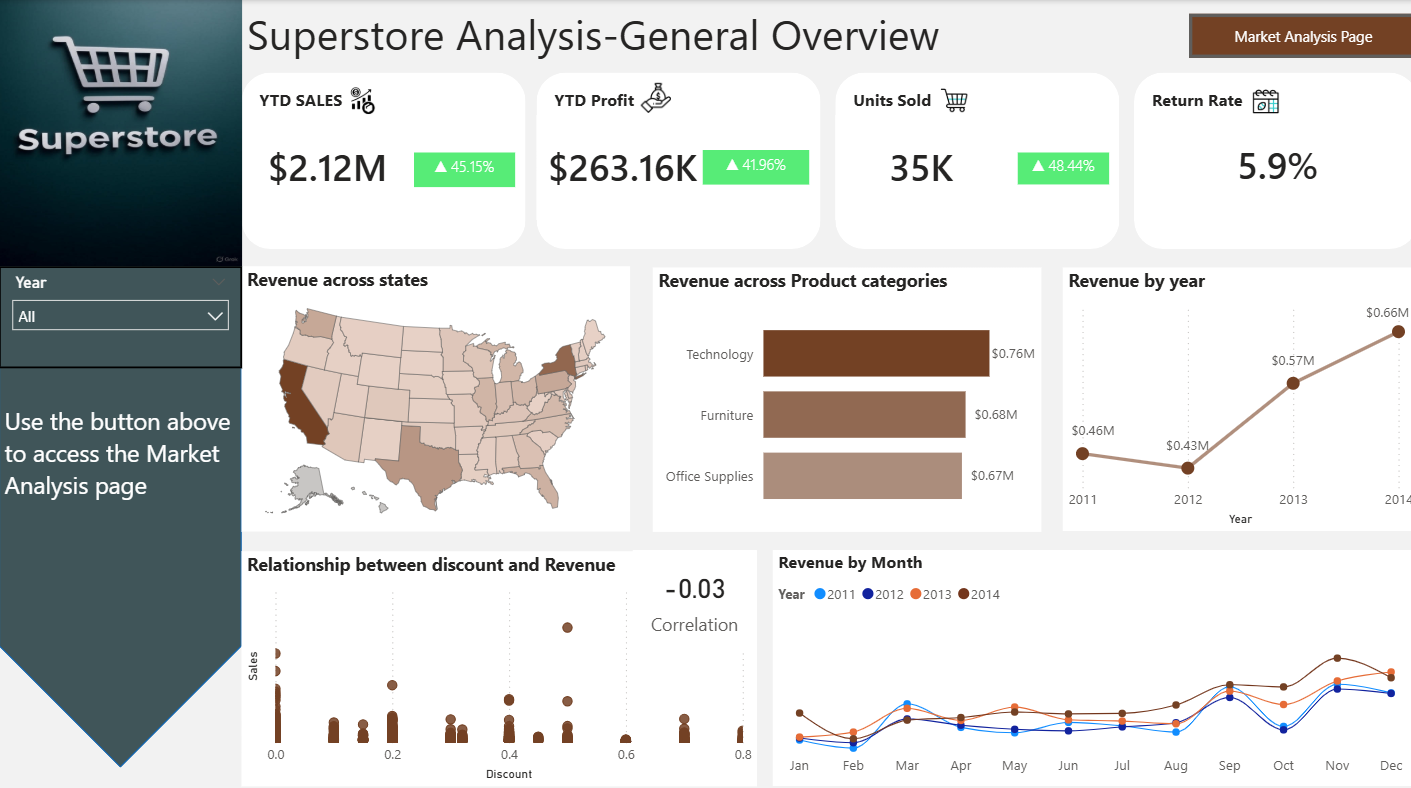

This screenshot's page, from the dashboard's own definition file:
{"tool":"powerbi","page":{"name":"Page 1","canvas":[1280,720],"ordinal":0},"visuals":[{"type":"textbox","box":[218.6,0,690.7,66.3],"z":0},{"type":"shape","box":[0,0,218.9,692.2],"z":1000,"group":"g6"},{"type":"group","id":"g1","title":"Group 1","box":[218.9,65.9,256.3,159.2],"z":1000},{"type":"shape","box":[218.9,65.9,256.3,159.2],"z":2000,"group":"g1"},{"type":"group","id":"g2","title":"Group 1","box":[485.1,65.9,256.3,159.2],"z":2000},{"type":"shape","box":[485.1,65.9,256.3,159.2],"z":2000,"group":"g2"},{"type":"shape","box":[753.8,65.9,256.3,159.2],"z":2000,"group":"g3"},{"type":"shape","box":[1023.7,65.9,256.3,159.2],"z":2000,"group":"g4"},{"type":"group","id":"g3","title":"Group 1","box":[753.8,65.9,256.3,159.2],"z":3000},{"type":"group","id":"g4","title":"Group 1","box":[1023.7,65.9,256.3,159.2],"z":4000},{"type":"group","id":"g5","title":"Group 2","box":[0,0,218.9,692.2],"z":5000},{"type":"image","box":[0,0,218.9,240],"z":5001,"group":"g6"},{"type":"image","box":[308.9,73.3,37.8,35.6],"z":6000},{"type":"textbox","box":[230.1,74.6,107,41.1],"z":6000,"group":"g1"},{"type":"textbox","box":[496.3,74.6,107,41.1],"z":6000,"group":"g2"},{"type":"textbox","box":[765,74.6,107,41.1],"z":6000,"group":"g3"},{"type":"textbox","box":[1034.9,74.6,107,41.1],"z":6000,"group":"g4"},{"type":"image","box":[570.9,69.8,41.9,37.2],"z":7000},{"type":"card","fields":{"Values":["Orders.Return_rate"]},"box":[1030.3,99.6,246.3,99.5],"z":7000,"group":"g4"},{"type":"card","fields":{"Values":["Orders.Net Sales TY"]},"box":[218.9,104.5,155.5,94.5],"z":7000,"group":"g1"},{"type":"card","fields":{"Values":["Orders.Net Profit TY"]},"box":[485.1,104.5,155.5,94.5],"z":7000,"group":"g2"},{"type":"card","fields":{"Values":["Orders.Net Units TY"]},"box":[753.8,104.5,155.5,94.5],"z":7000,"group":"g3"},{"type":"image","box":[840.7,67.4,40.7,41.9],"z":8000},{"type":"card","fields":{"Values":["Orders.YTD Profit Change with Icon"]},"box":[635.4,135.6,95.8,31.1],"z":8000,"group":"g2"},{"type":"card","fields":{"Values":["Orders.YTD Sales Change with Icon"]},"box":[374.5,138.1,90.8,31.1],"z":8000,"group":"g1"},{"type":"card","fields":{"Values":["Orders.YTD Uints Change with Icon"]},"box":[918.2,138.1,82.1,28.6],"z":8000,"group":"g3"},{"type":"image","box":[1120.9,69.8,41.9,44.2],"z":9000},{"type":"shapeMap","title":"Revenue across states","fields":{"Category":["Orders.State"],"Value":["Orders.Net Sales TY"]},"box":[218.6,239.5,350,239.5],"z":10000},{"type":"clusteredBarChart","title":"Revenue across Product categories","fields":{"Category":["Orders.Category"],"Y":["Orders.Net Sales TY"]},"box":[589.5,240.7,350,238.4],"z":11000},{"type":"scatterChart","title":"Relationship between discount and Revenue","fields":{"X":["Orders.Discount"],"Y":["Orders.Sales"]},"box":[218.6,496.5,465.1,211.6],"z":12000},{"type":"lineChart","title":"Revenue by Month","fields":{"Y":["Orders.Net Sales TY"],"Category":["DateTable.Month"],"Series":["DateTable.Year"]},"box":[697.9,496.3,582.2,212.7],"z":13000},{"type":"slicer","fields":{"Values":["DateTable.Year"]},"box":[0,240.1,218.9,92.1],"z":14000},{"type":"actionButton","box":[1073.5,12.4,206.5,39.8],"z":15000},{"type":"lineChart","title":"Revenue by year","fields":{"Category":["DateTable.Year"],"Y":["Orders.Net Sales TY"]},"box":[959.1,241.3,320.9,237.6],"z":16000},{"type":"group","id":"g6","title":"Group 3","box":[0,0,218.9,692.2],"z":16001,"group":"g5"},{"type":"card","fields":{"Values":["Orders.Correlation"]},"box":[571,496.3,112,89.6],"z":17000},{"type":"textbox","box":[0,359.5,218.9,136.8],"z":18000}]}

Visuals, with their boxes in screenshot pixels (x1, y1, x2, y2), scaled from the page's 1280x720 canvas onto the 1411x788 screenshot:
textbox: [241,0,1002,73]
shape: [0,0,241,758]
"Group 1" group: [241,72,524,246]
shape: [241,72,524,246]
"Group 1" group: [535,72,817,246]
shape: [535,72,817,246]
shape: [831,72,1113,246]
shape: [1128,72,1410,246]
"Group 1" group: [831,72,1113,246]
"Group 1" group: [1128,72,1410,246]
"Group 2" group: [0,0,241,758]
image: [0,0,241,263]
image: [341,80,382,119]
textbox: [254,82,372,127]
textbox: [547,82,665,127]
textbox: [843,82,961,127]
textbox: [1141,82,1259,127]
image: [629,76,676,117]
card - Orders.Return_rate: [1136,109,1407,218]
card - Orders.Net Sales TY: [241,114,413,218]
card - Orders.Net Profit TY: [535,114,706,218]
card - Orders.Net Units TY: [831,114,1002,218]
image: [927,74,972,120]
card - Orders.YTD Profit Change with Icon: [700,148,806,182]
card - Orders.YTD Sales Change with Icon: [413,151,513,185]
card - Orders.YTD Uints Change with Icon: [1012,151,1103,182]
image: [1236,76,1282,125]
"Revenue across states" shapeMap: [241,262,627,524]
"Revenue across Product categories" clusteredBarChart: [650,263,1036,524]
"Relationship between discount and Revenue" scatterChart: [241,543,754,775]
"Revenue by Month" lineChart: [769,543,1410,776]
slicer - DateTable.Year: [0,263,241,364]
actionButton: [1183,14,1410,57]
"Revenue by year" lineChart: [1057,264,1410,524]
"Group 3" group: [0,0,241,758]
card - Orders.Correlation: [629,543,753,641]
textbox: [0,393,241,543]
